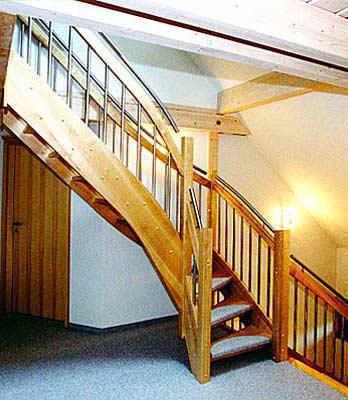Escaleras: (16, 39, 284, 364)
